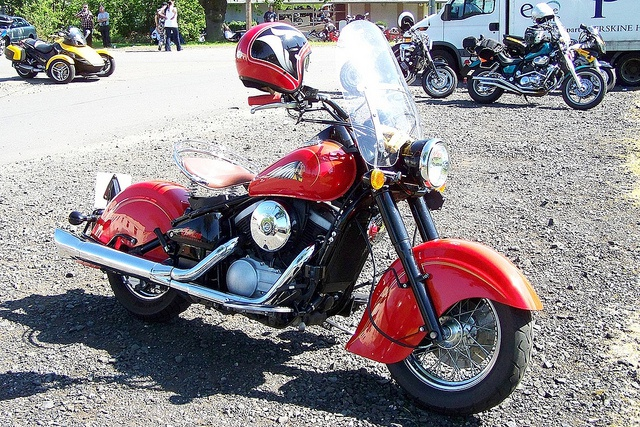non-vehicle: (48, 13, 545, 409), (467, 11, 603, 111), (340, 21, 459, 99), (504, 22, 618, 91), (4, 27, 115, 84)
